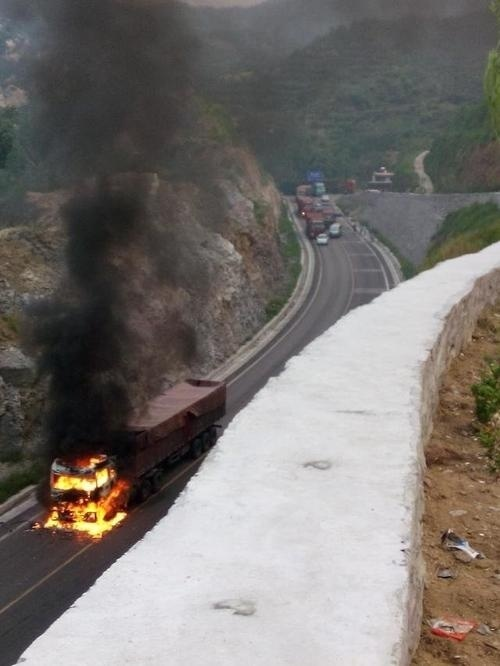fire: (37, 454, 129, 536)
